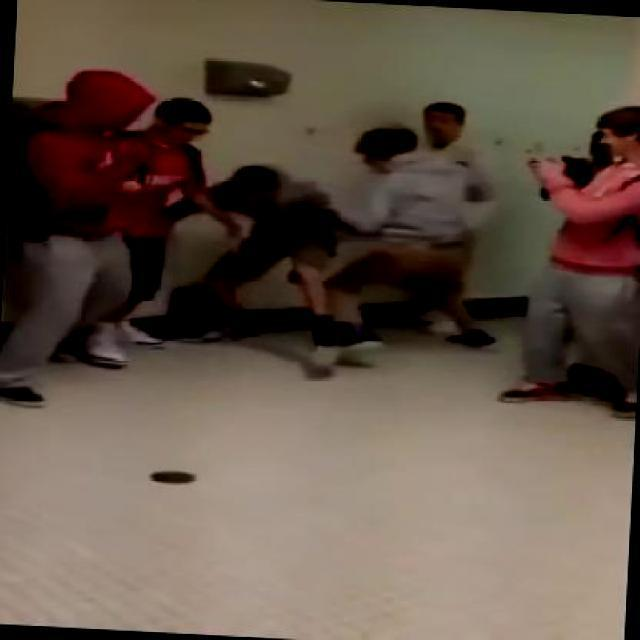fight: (166, 115, 499, 388)
non-fight: (0, 70, 143, 418), (506, 101, 639, 424)
